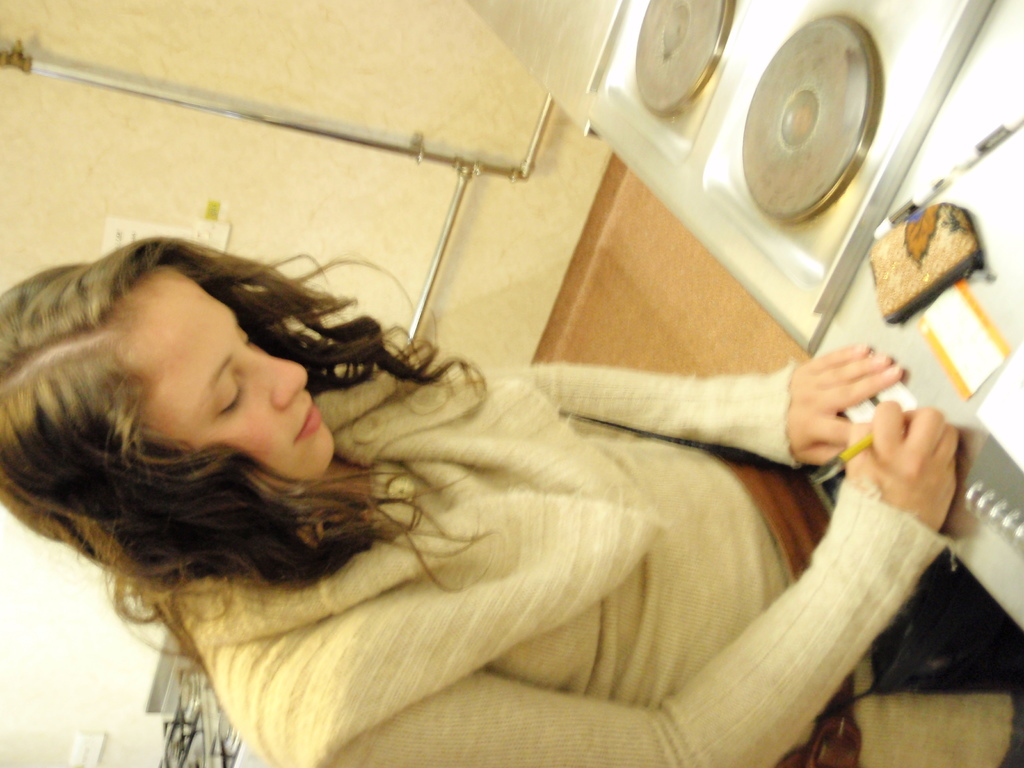face: (126, 294, 329, 479)
